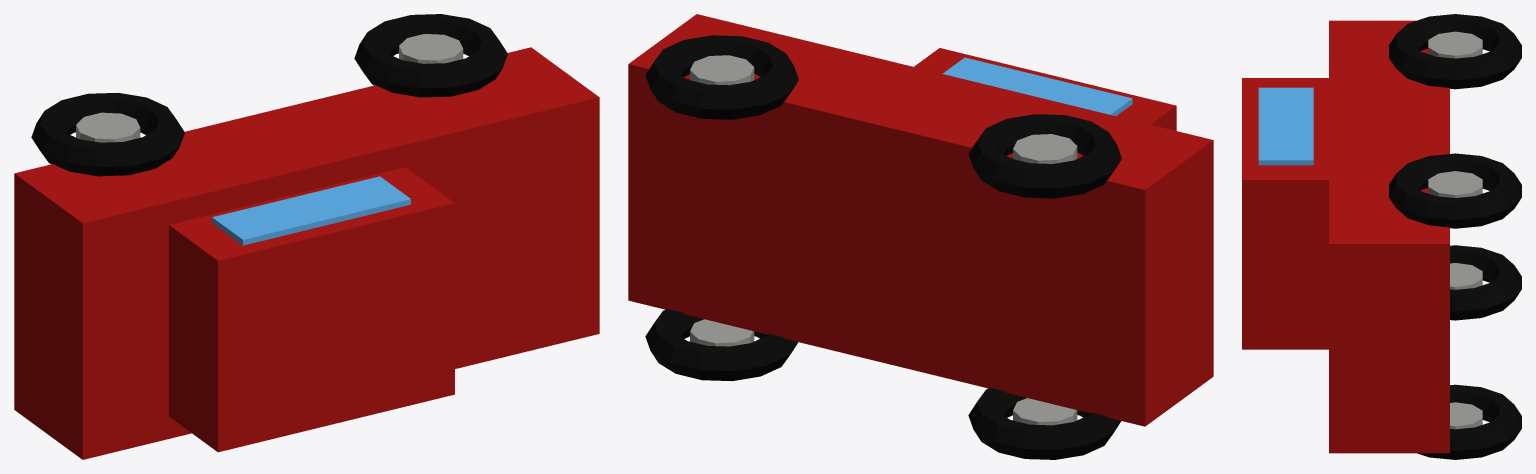
The model's file is car.obj.
3 renders of one model, left to right at view 1: azimuth 30°, elevation 25°; view 2: azimuth 150°, elevation 25°; view 3: azimuth 270°, elevation 25°, orthographic. The views are drawn at different scales.
Parts seen in each view (by area): view 1: XYT_generated; view 2: XYT_generated; view 3: XYT_generated.
Part boxes in pixels (x1,y1,x2,y2): XYT_generated: [14, 14, 599, 459]; XYT_generated: [628, 14, 1213, 459]; XYT_generated: [1242, 14, 1521, 459].
Size of the model in its own units: 2.4 by 1.28 by 1.27.
